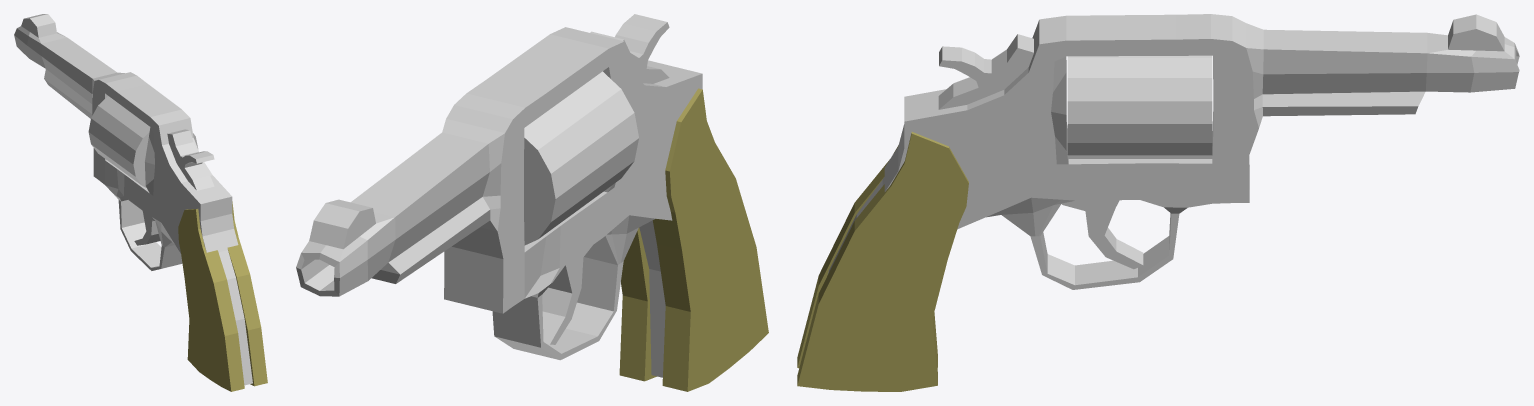
The model's file is 38-special.glb.
3 views of the same model, side by side, from view 1: azimuth 30°, elevation 25°; view 2: azimuth 150°, elevation 25°; view 3: azimuth 270°, elevation 25° (orthographic). The views are drawn at different scales.
Parts seen in each view (by area): view 1: body, grip.002, cylinder, grip.001, hammer, trigger; view 2: body, grip.002, cylinder, grip.001, trigger, hammer; view 3: body, grip.001, cylinder, hammer, trigger, grip.002.
Boxes of the visible parts, left/top/right/bottom form: body: left=14, top=14, right=252, bottom=385; grip.002: left=178, top=208, right=244, bottom=391; cylinder: left=88, top=96, right=198, bottom=187; grip.001: left=227, top=201, right=267, bottom=386; hammer: left=167, top=129, right=214, bottom=190; trigger: left=134, top=211, right=160, bottom=245; body: left=296, top=27, right=702, bottom=377; grip.002: left=652, top=88, right=768, bottom=391; cylinder: left=524, top=71, right=638, bottom=245; grip.001: left=619, top=227, right=656, bottom=381; trigger: left=542, top=245, right=592, bottom=344; hammer: left=590, top=14, right=669, bottom=83; body: left=827, top=14, right=1519, bottom=289; grip.001: left=797, top=132, right=968, bottom=391; cylinder: left=1067, top=55, right=1212, bottom=158; hammer: left=938, top=34, right=1033, bottom=109; trigger: left=1062, top=200, right=1143, bottom=269; grip.002: left=797, top=145, right=937, bottom=368.
Bounding box in the file's own units: 0.1253 × 0.4077 × 0.7498.
